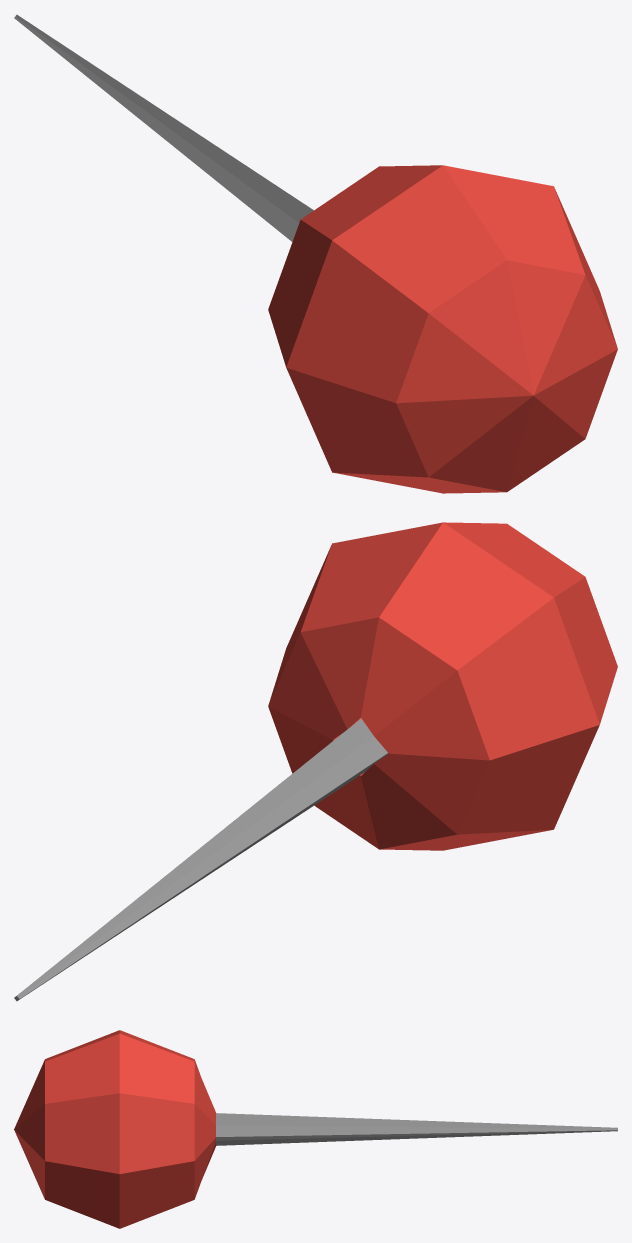
The model's file is pin.fbx.
The picture shows the model from 3 angles, top to bottom: view 1: azimuth 30°, elevation 25°; view 2: azimuth 150°, elevation 25°; view 3: azimuth 270°, elevation 25°; orthographic projection. The views are drawn at different scales.
Parts seen in each view (by area): view 1: Pin; view 2: Pin; view 3: Pin.
Boxes of the visible parts, x1=… form: Pin: x1=14, y1=14, x2=617, y2=493; Pin: x1=14, y1=522, x2=617, y2=1001; Pin: x1=14, y1=1030, x2=617, y2=1228.
Size of the model in its own units: 6.25 by 6.25 by 17.83.
